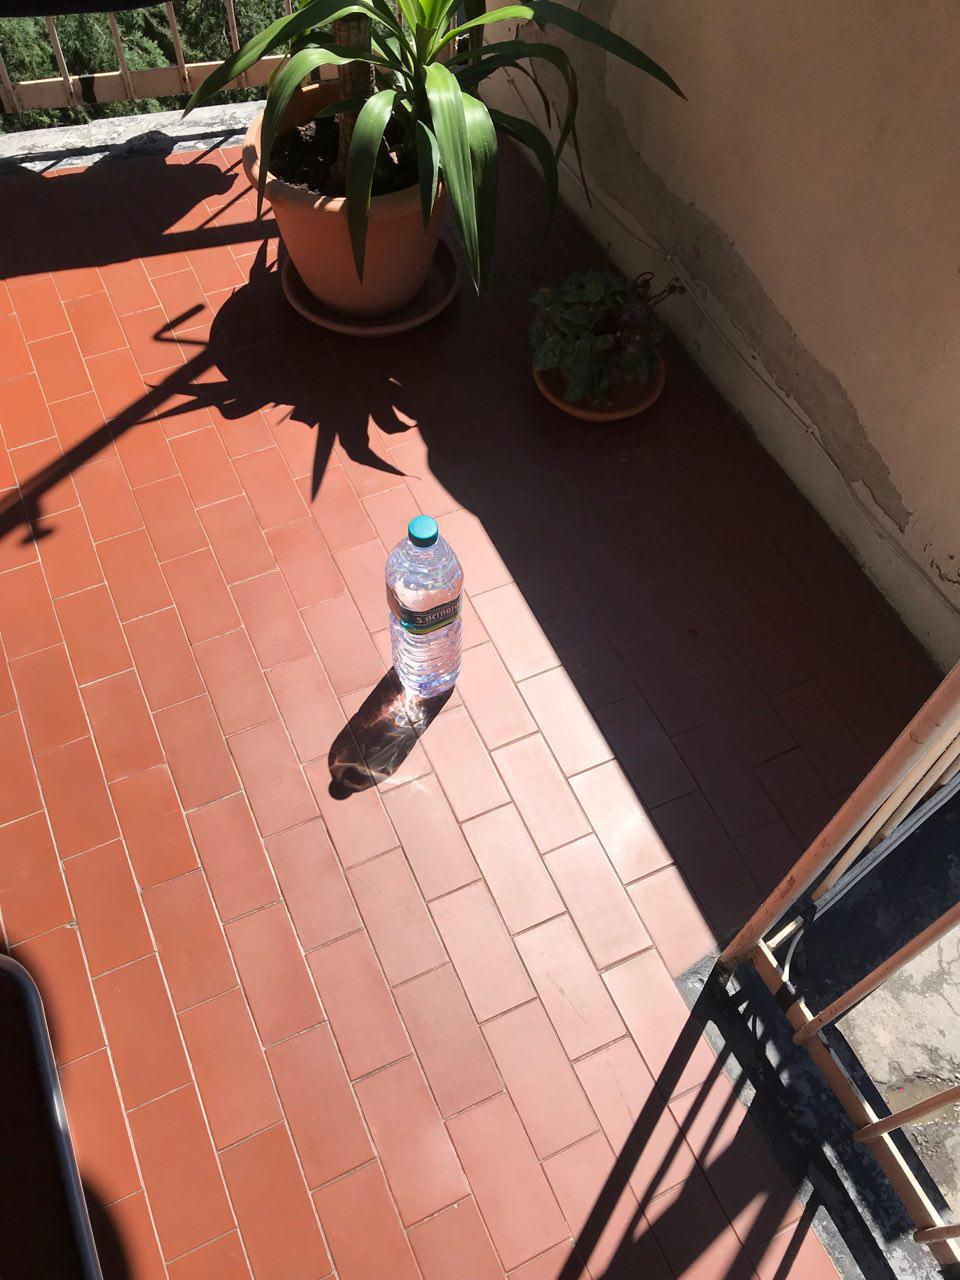san_bernardo: (384, 515, 464, 698)
